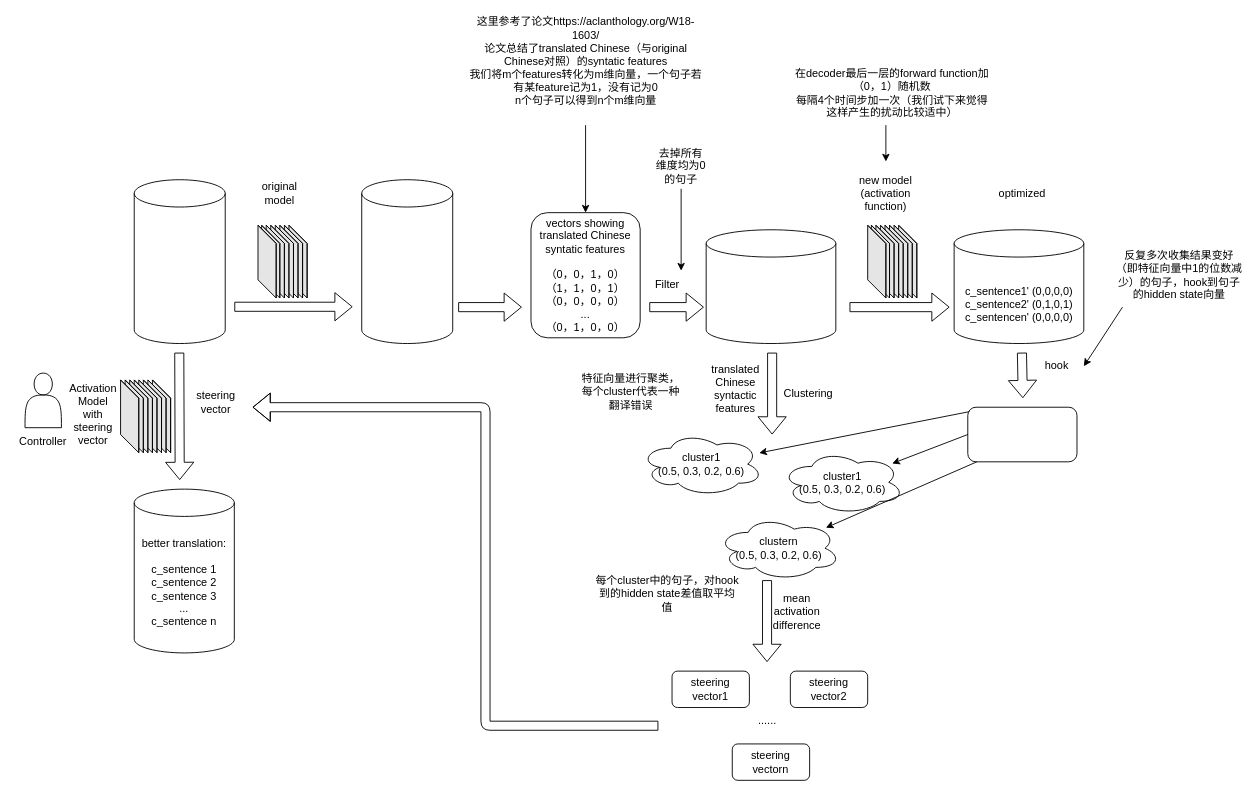
This 1260x796 diagram has some shape labels left out. Each missing label, with the centre of its shape:
"c_sentence 1 c_sentence 2 c_sentence 3 ... c_sentence n" belongs at point (407, 261).
"c_sentence1 (0,0,1,0) c_sentence2 (1,1,0,1) c_sentencen (0,1,0,0)" belongs at point (770, 286).
"e_sentence 1 e_sentence 2 e_sentence 3 ... e_sentence n" belongs at point (179, 261).
"torch(5, 1, 1024) torch(5, 1, 1024) torch(5, 1, 1024)" belongs at point (1022, 434).
